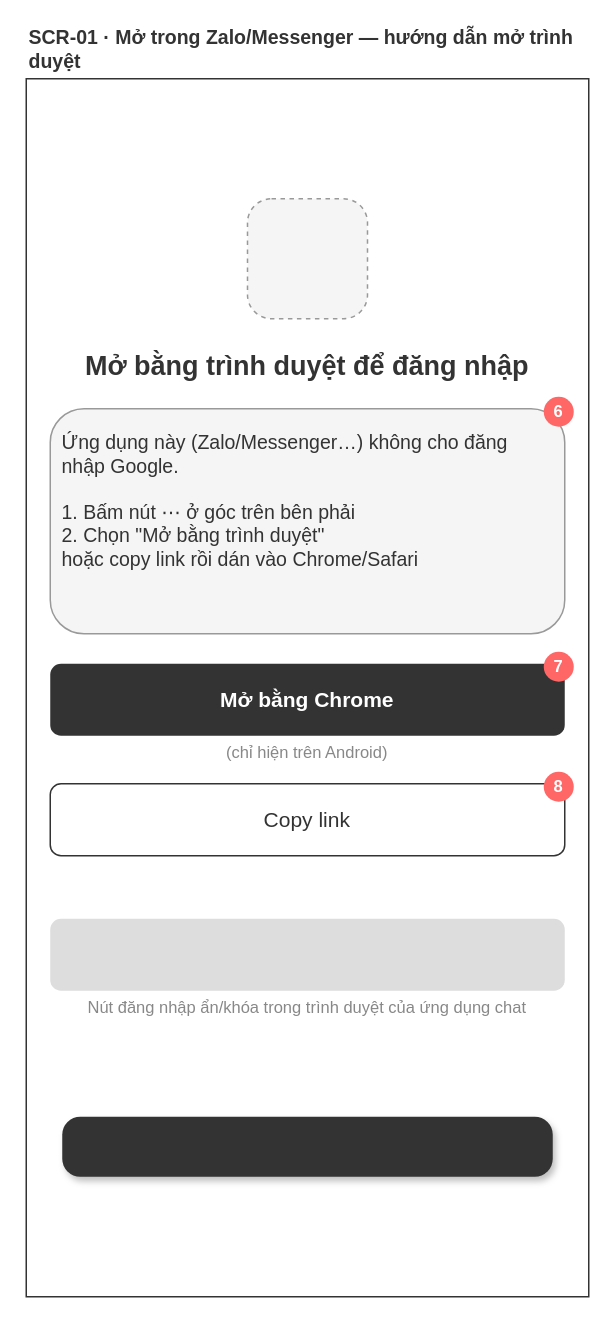
This 615x1323 diagram has some shape labels left out. Here are the shapes that lost their labels. From the top down, the centre of each, then its label:
At point (307, 258): "LÔ TÔ".
At point (307, 954): "G Đăng nhập với Google".
At point (308, 1148): "Đã copy link".
